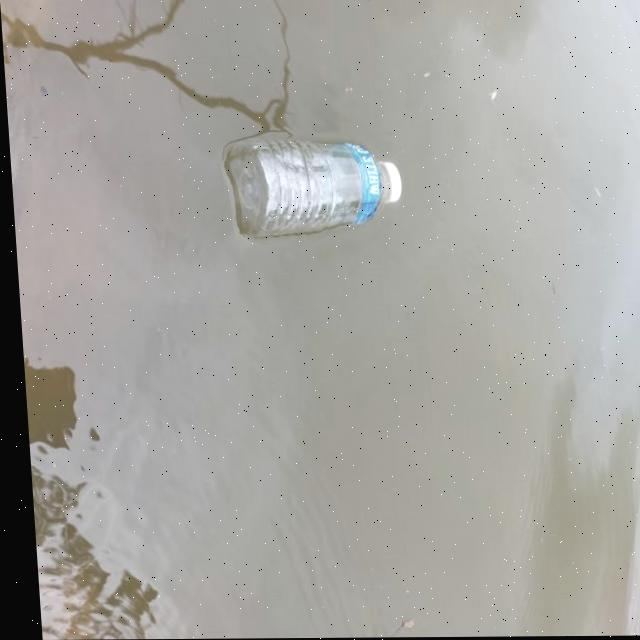waterbottle: (212, 101, 408, 267)
